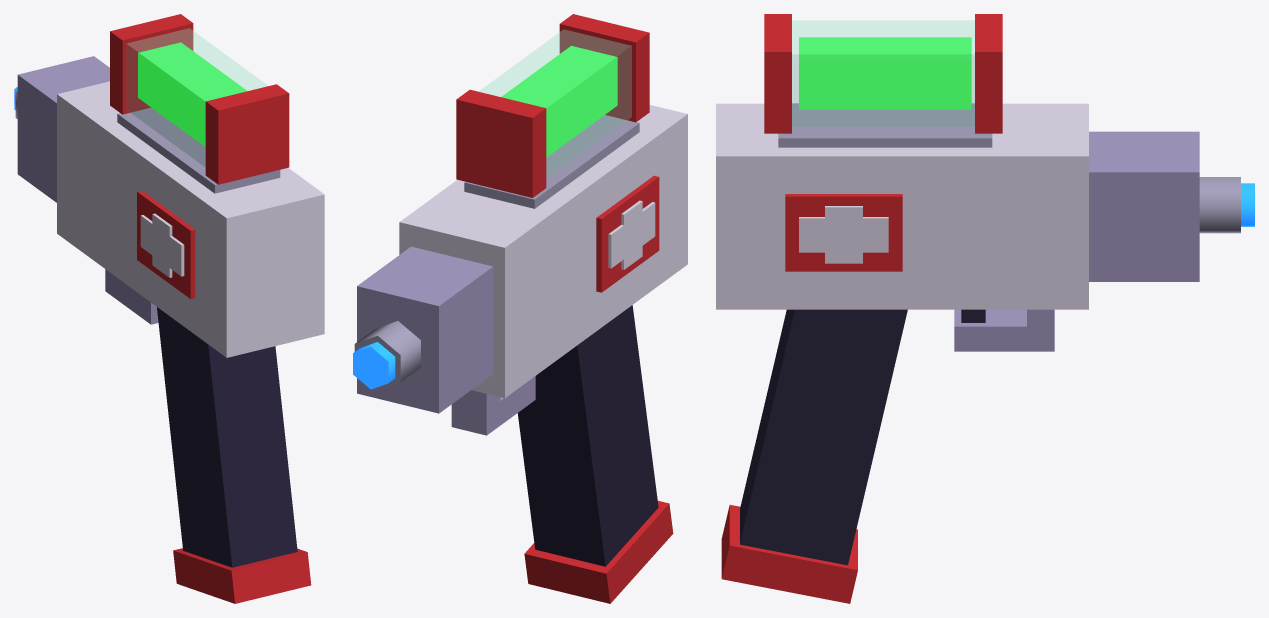
The model's file is medgun.lod1.glb.
3 views of the same model, side by side, from view 1: azimuth 30°, elevation 25°; view 2: azimuth 150°, elevation 25°; view 3: azimuth 270°, elevation 25° (orthographic). The views are drawn at different scales.
Parts seen in each view (by area): view 1: item.medgun.body, part.canister; view 2: item.medgun.body, part.canister; view 3: item.medgun.body, part.canister.
Part boxes in pixels (x1,y1,x2,y2): item.medgun.body: [14, 56, 324, 603]; part.canister: [110, 14, 289, 193]; item.medgun.body: [353, 105, 687, 603]; part.canister: [456, 14, 649, 208]; item.medgun.body: [716, 103, 1254, 603]; part.canister: [764, 14, 1002, 147].
Size of the model in its own units: 0.13 by 0.5497 by 0.4875.
